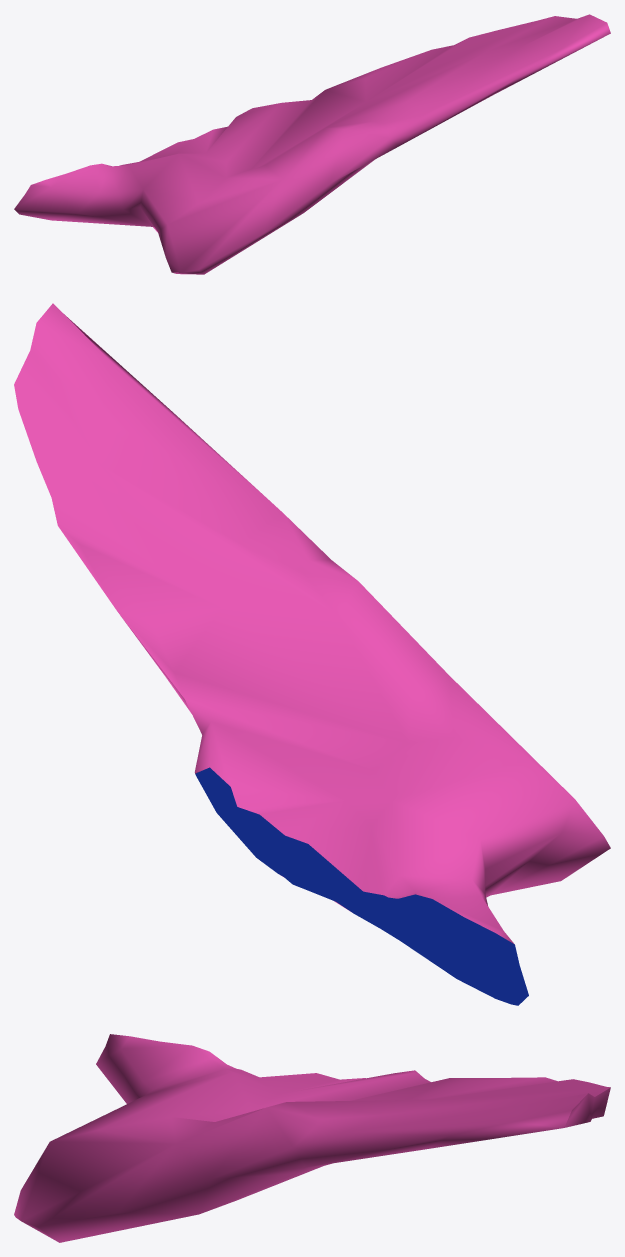
The model's file is SM_StatueJardin_Broken_03.fbx.
3 renders of one model, top to bottom at view 1: azimuth 30°, elevation 25°; view 2: azimuth 150°, elevation 25°; view 3: azimuth 330°, elevation 25°, orthographic. The views are drawn at different scales.
Parts seen in each view (by area): view 1: SM_StatueJardin_Broken_03; view 2: SM_StatueJardin_Broken_03; view 3: SM_StatueJardin_Broken_03.
Part boxes in pixels (left/top/right/bottom): SM_StatueJardin_Broken_03: left=14, top=14, right=610, bottom=274; SM_StatueJardin_Broken_03: left=14, top=303, right=610, bottom=1005; SM_StatueJardin_Broken_03: left=14, top=1034, right=610, bottom=1242.
Bounding box in the file's own units: 7.56 × 3.43 × 4.76.
